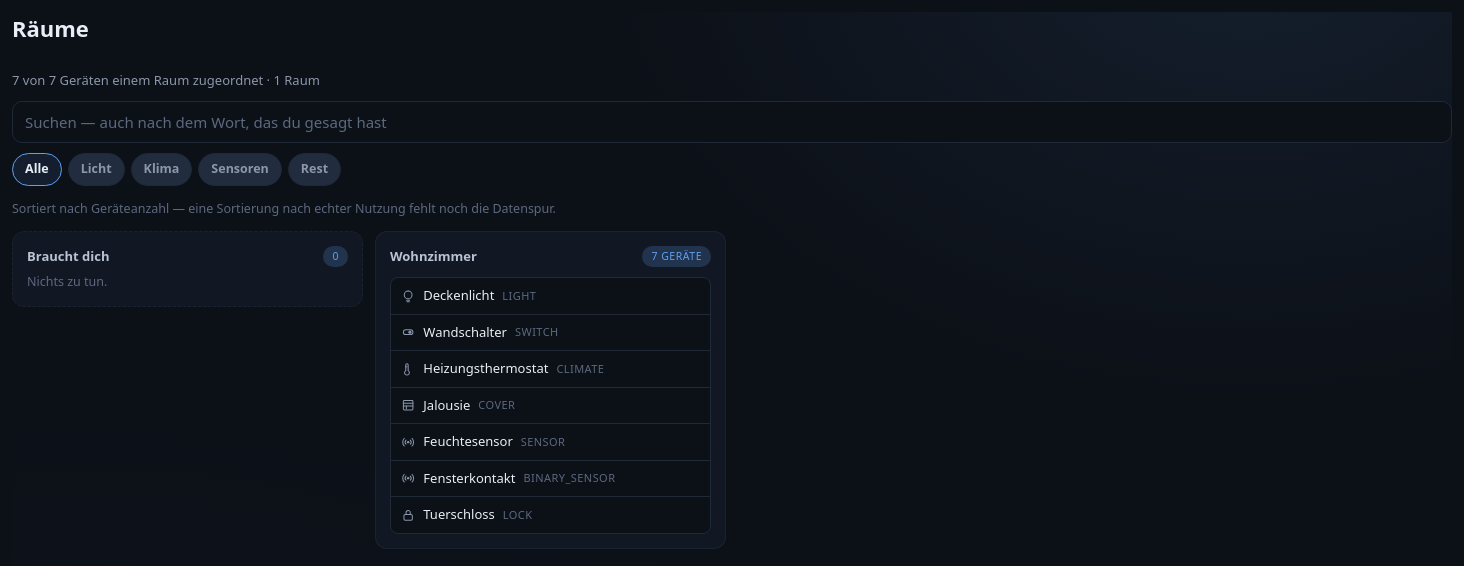
Scenario: RaeumeView — Domänen-Chips filtern die Raum-Karten (kein zweiter Baum, nur ein Prädikat) › „Klima": climate + cover, sonst nichts
Click the button with class "rooms__chip" showing "Klima" at coordinates (162, 169), box [131, 153, 192, 186]
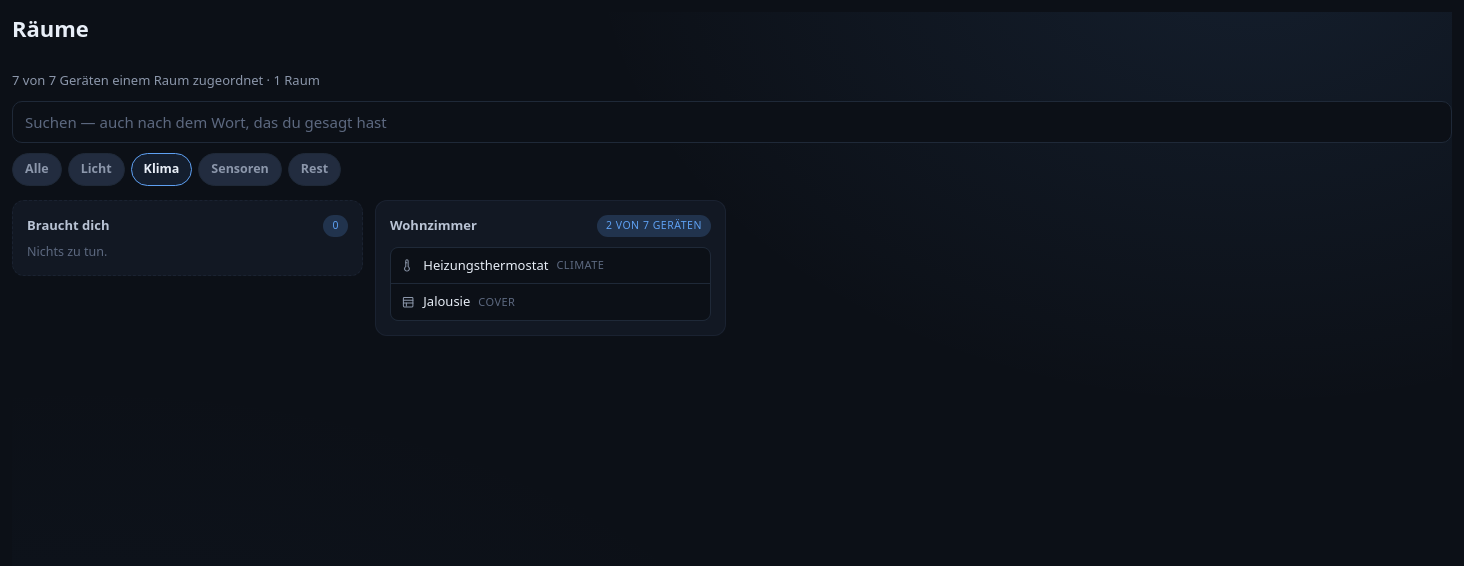
expect the text "Deckenlicht" is gone: met
expect the text "Wandschalter" is gone: met
expect the text "Feuchtesensor" is gone: met
